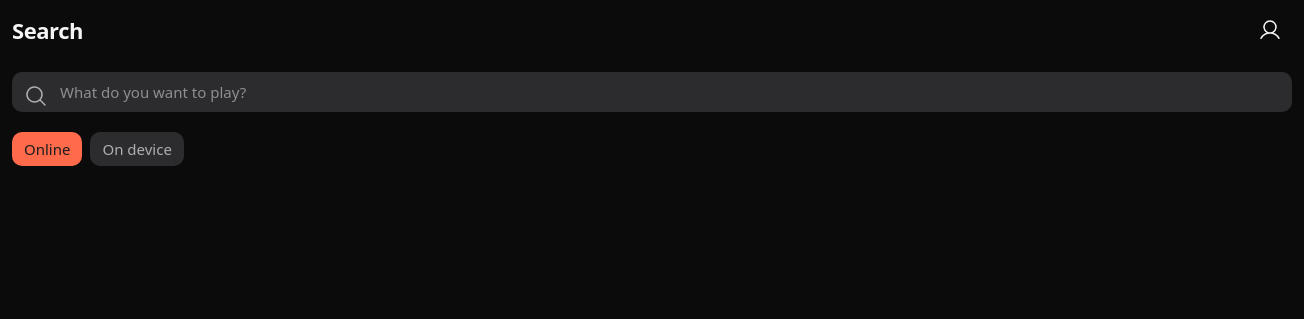
Test: SearchView on the phone › hides the Search title while results are shown and keeps the field
The width and height of the screenshot is (1304, 319).
In the dropdown named "Search": (652, 92) [12,72,1292,112], type "x"
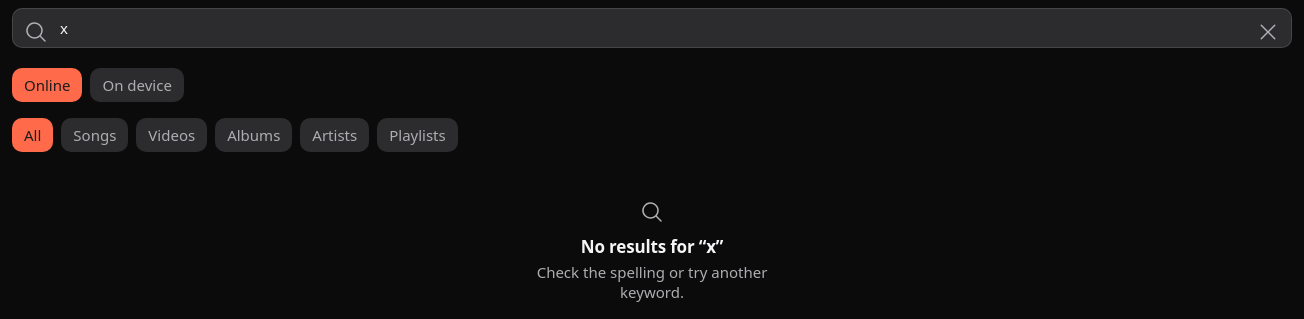
expect the heading "Search" is gone: met
